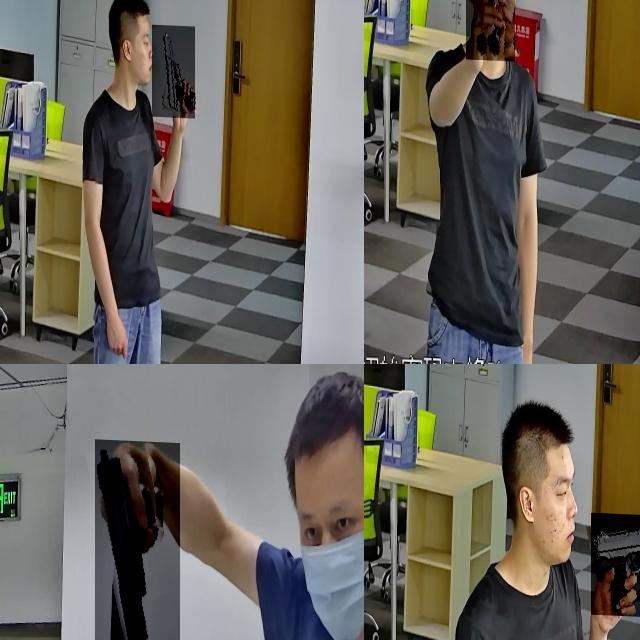gun-knife-thesis - v11 Yolov5 augmented: (95, 437, 179, 640), (591, 509, 640, 613), (152, 21, 195, 116), (466, 0, 514, 70)
